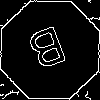B: (25, 25, 73, 80)
